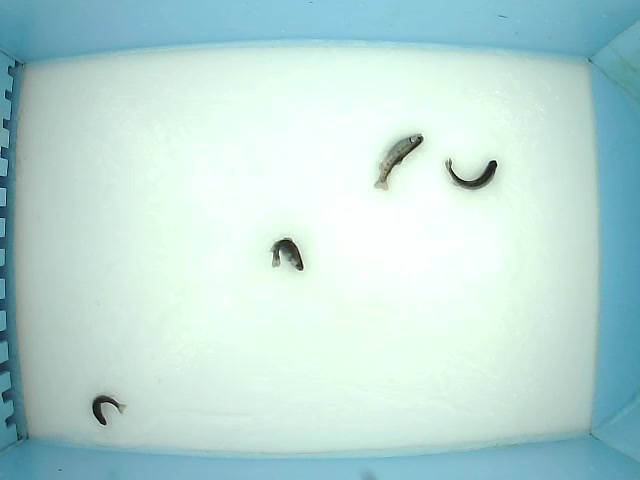fish: (372, 133, 424, 192), (443, 155, 498, 192), (268, 236, 305, 273), (91, 394, 128, 427)
